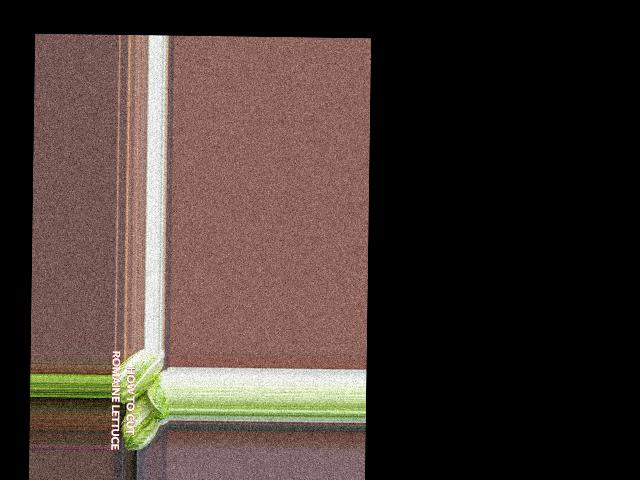lettuce: (116, 387, 164, 453)
